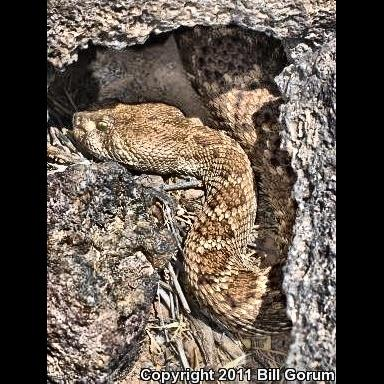snake: (71, 102, 289, 368)
